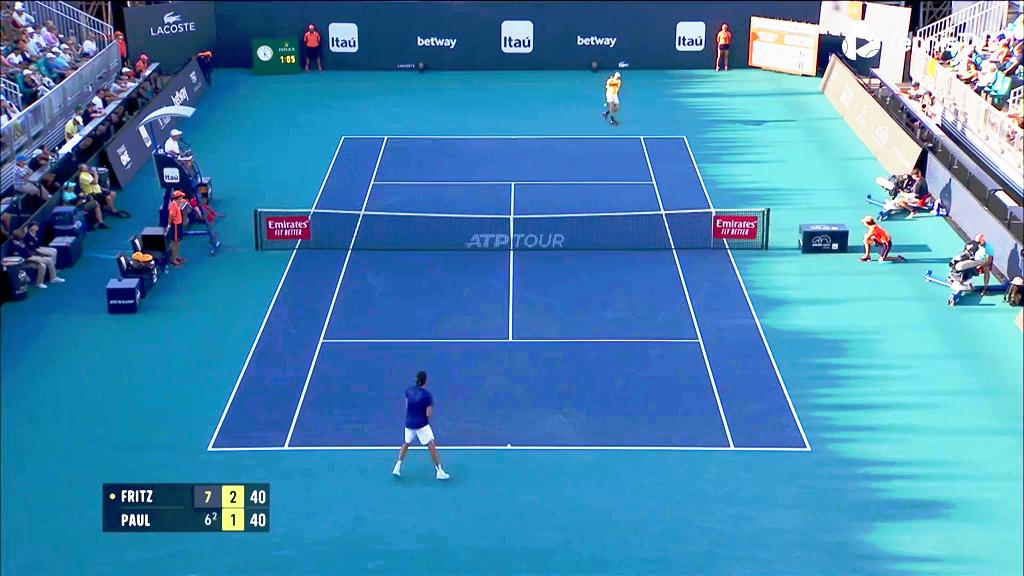tennis-court: (207, 136, 812, 450)
